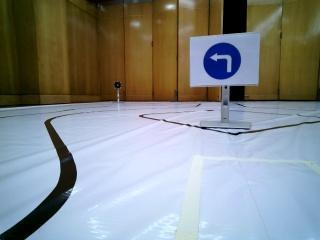left: (196, 42, 256, 83)
